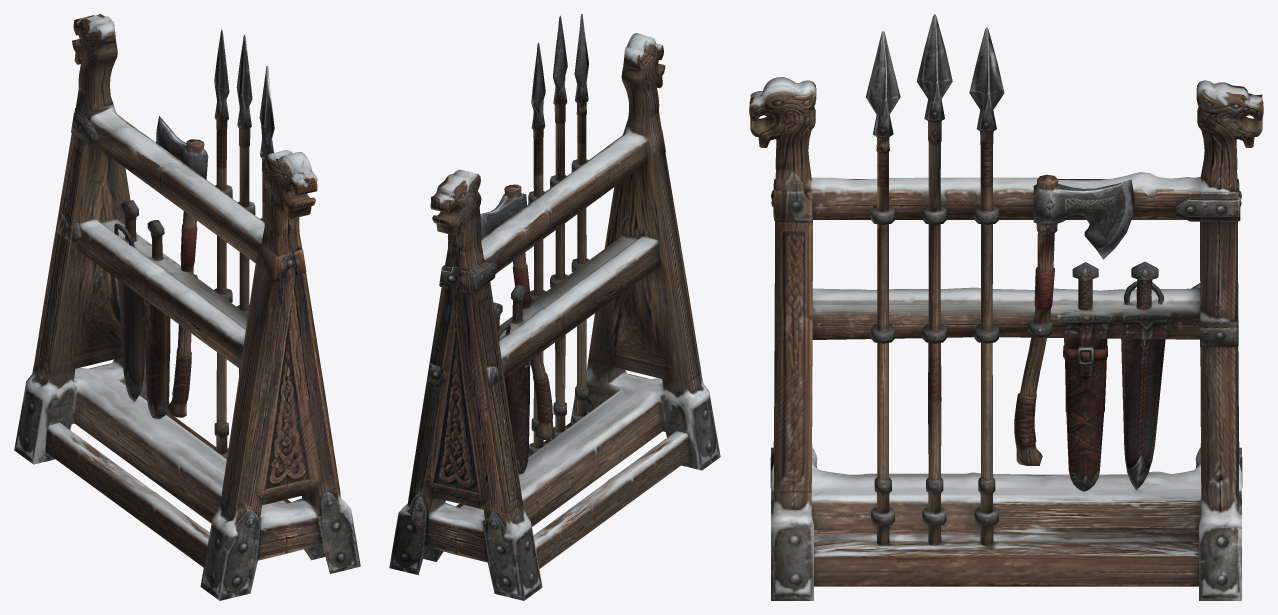
Rendered from SM_Env_HeorotWeaponRack.fbx.
The picture shows the model from 3 angles, left to right: view 1: azimuth 30°, elevation 25°; view 2: azimuth 150°, elevation 25°; view 3: azimuth 270°, elevation 25°; orthographic projection. The views are drawn at different scales.
Parts seen in each view (by area): view 1: SM_Env_HeorotWeaponRack; view 2: SM_Env_HeorotWeaponRack; view 3: SM_Env_HeorotWeaponRack.
Boxes of the visible parts, box(x1,y1,x2,y2) form: SM_Env_HeorotWeaponRack: box(14, 14, 360, 600); SM_Env_HeorotWeaponRack: box(389, 14, 720, 600); SM_Env_HeorotWeaponRack: box(749, 14, 1263, 600).
Size of the model in its own units: 18.03 by 49.74 by 60.
Materials: 1 (1 with a texture image).
